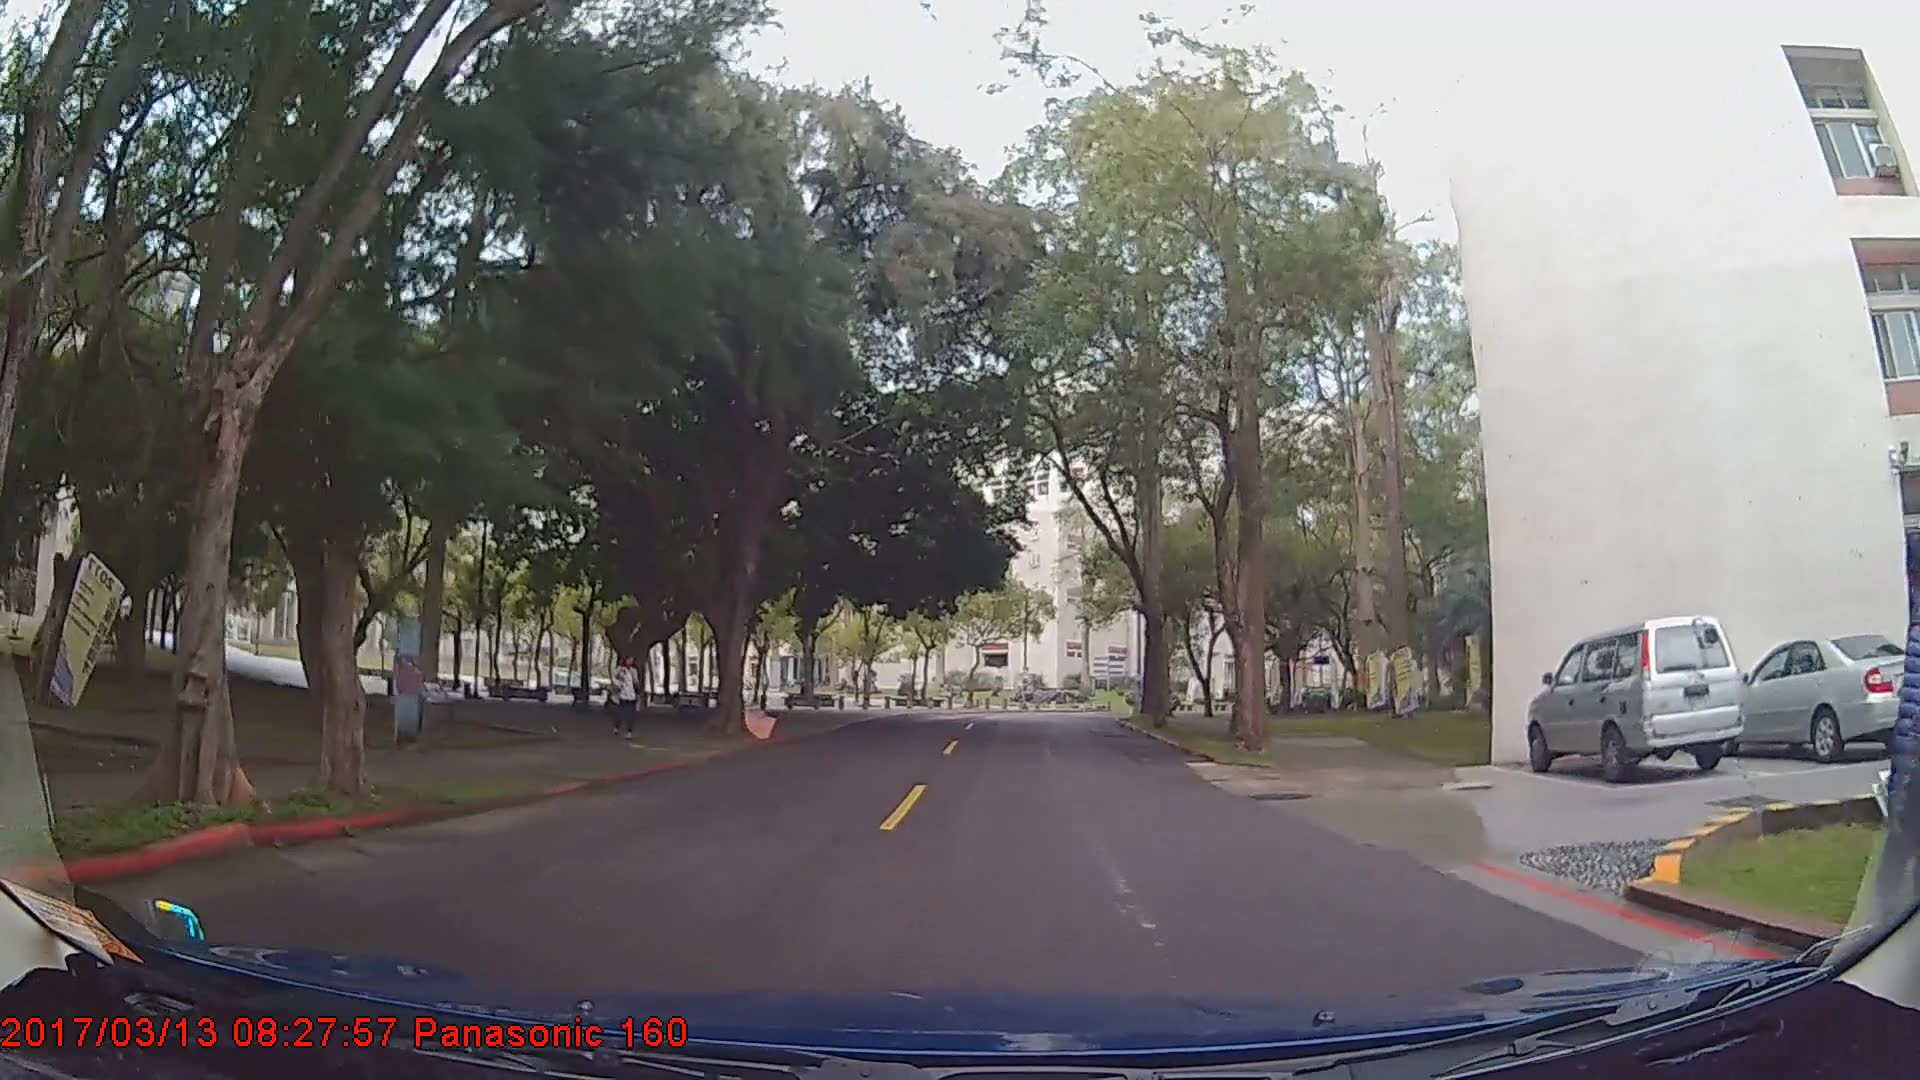pedestrian: (611, 652, 644, 742)
vehicle: (1526, 616, 1744, 786), (1714, 631, 1920, 764)
